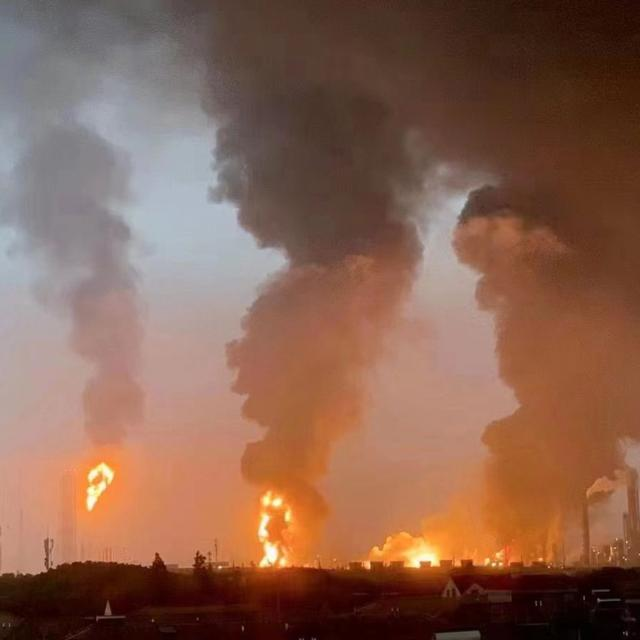Fire: (252, 487, 296, 567), (84, 458, 118, 518), (394, 536, 446, 568), (485, 541, 516, 569), (360, 560, 373, 570)
Smoke: (172, 0, 434, 494), (437, 0, 638, 570), (0, 0, 162, 451)
